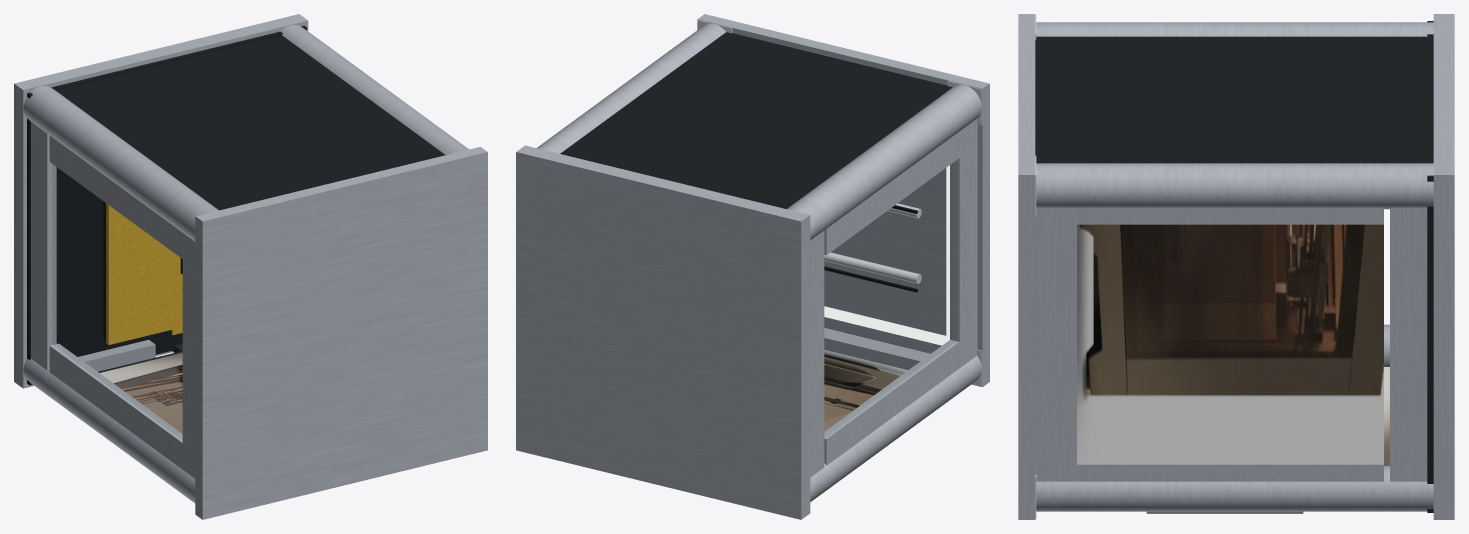
The model's file is deltrol_p2s_optimized.glb.
3 views of the same model, side by side, from view 1: azimuth 30°, elevation 25°; view 2: azimuth 150°, elevation 25°; view 3: azimuth 270°, elevation 25° (orthographic). The views are drawn at different scales.
Visible parts, largest first — view 1: top_rim_outer, rear_panel, bottom_panel, corner_post_-0.16_0.16, build_plate, base_plinth, left_wall_bot, left_wall_front, corner_post_-0.16_-0.16, corner_post_0.16_0.16, left_wall_rear, front_glass_door (+2 smaller); view 2: base_plinth, rear_panel, top_rim_outer, corner_post_-0.16_0.16, left_wall_top, left_wall_front, corner_post_-0.16_-0.16, corner_post_0.16_0.16, left_wall_rear, left_wall_bot, front_glass_door, front_top_beam (+3 smaller); view 3: right_glass_window, rear_panel, corner_post_0.16_0.16, corner_post_0.16_-0.16, right_wall_top, base_plinth, right_wall_bot, top_rim_outer, corner_post_-0.16_0.16, right_wall_front, right_wall_rear, bottom_panel (+1 smaller).
Boxes of the visible parts, box(x1,y1,x2,y2) form: top_rim_outer: box(195, 147, 487, 519); rear_panel: box(55, 35, 445, 210); bottom_panel: box(27, 25, 306, 385); corner_post_-0.16_0.16: box(23, 86, 218, 241); build_plate: box(106, 203, 182, 344); base_plinth: box(14, 14, 308, 388); left_wall_bot: box(31, 122, 56, 370); left_wall_front: box(49, 343, 182, 469); corner_post_-0.16_-0.16: box(23, 358, 195, 503); corner_post_0.16_0.16: box(280, 25, 468, 154); left_wall_rear: box(49, 135, 182, 258); front_glass_door: box(100, 353, 182, 433); base_plinth: box(516, 145, 810, 519); rear_panel: box(560, 32, 952, 208); top_rim_outer: box(697, 14, 989, 386); corner_post_-0.16_0.16: box(786, 85, 981, 240); left_wall_top: box(950, 119, 977, 367); left_wall_front: box(824, 339, 959, 465); corner_post_-0.16_-0.16: box(810, 356, 981, 501); corner_post_0.16_0.16: box(536, 24, 725, 153); left_wall_rear: box(824, 131, 959, 255); left_wall_bot: box(810, 231, 824, 477); front_glass_door: box(824, 350, 907, 431); front_top_beam: box(824, 328, 930, 370); right_glass_window: box(1077, 224, 1383, 462); rear_panel: box(1035, 36, 1427, 163); corner_post_0.16_0.16: box(1036, 163, 1433, 209); corner_post_0.16_-0.16: box(1036, 466, 1433, 511); right_wall_top: box(1035, 207, 1076, 481); base_plinth: box(1433, 14, 1454, 519); right_wall_bot: box(1390, 207, 1427, 481); top_rim_outer: box(1018, 14, 1035, 519); corner_post_-0.16_0.16: box(1036, 22, 1433, 36); right_wall_front: box(1076, 463, 1383, 481); right_wall_rear: box(1076, 207, 1383, 224); bottom_panel: box(1427, 21, 1433, 512).
Bounding box in the file's own units: 0.365 × 0.3755 × 0.418.
Materials: 14 (14 with a texture image).
